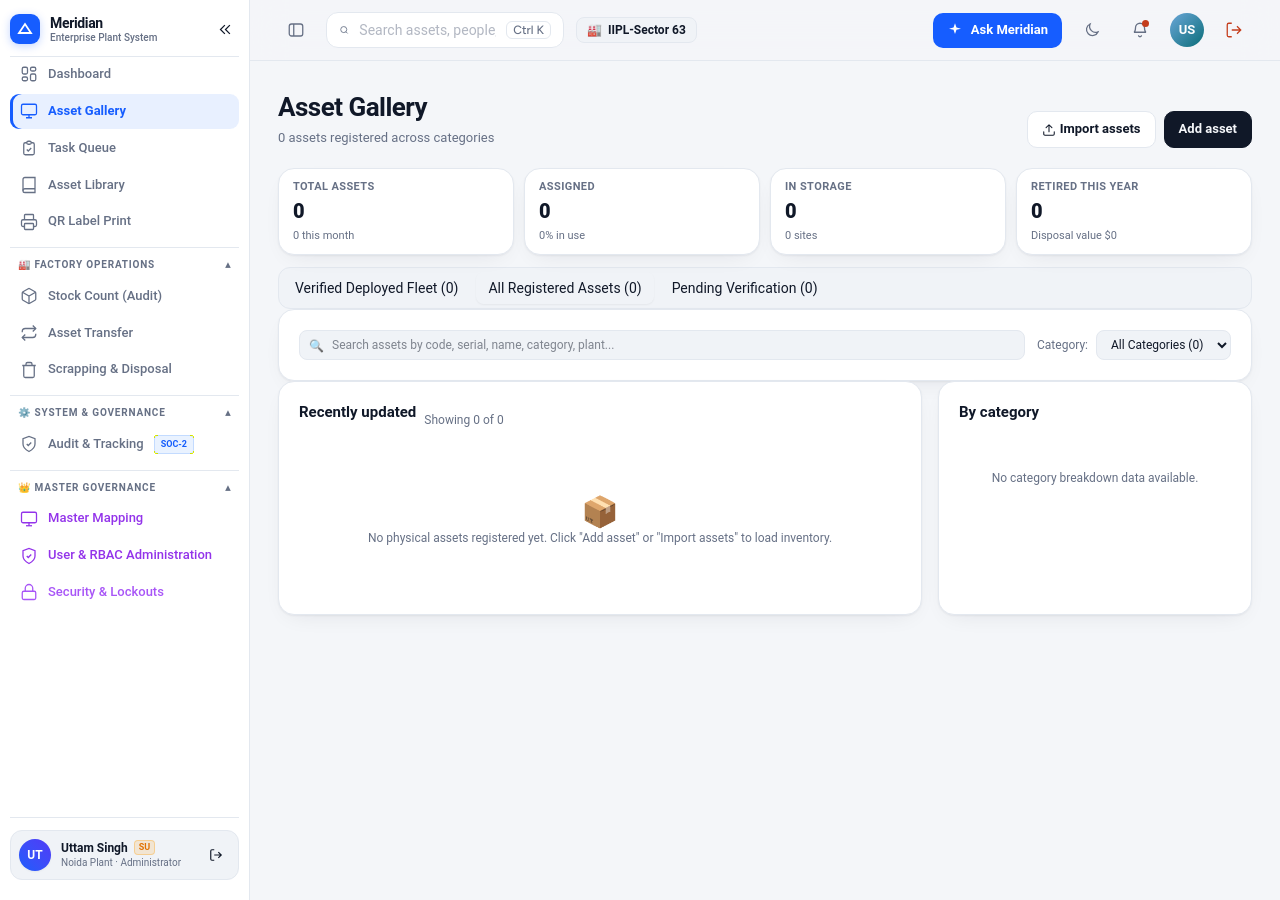
Scenario: Meridian Add Asset Drawer & Asset Library Specification › Media inputs: Clicking Asset photo and ID card reveals Camera and File options; Asset code is camera-only
Click the button "Add asset" at (1208, 129), box [1164,111,1252,148]
(page scrolled)
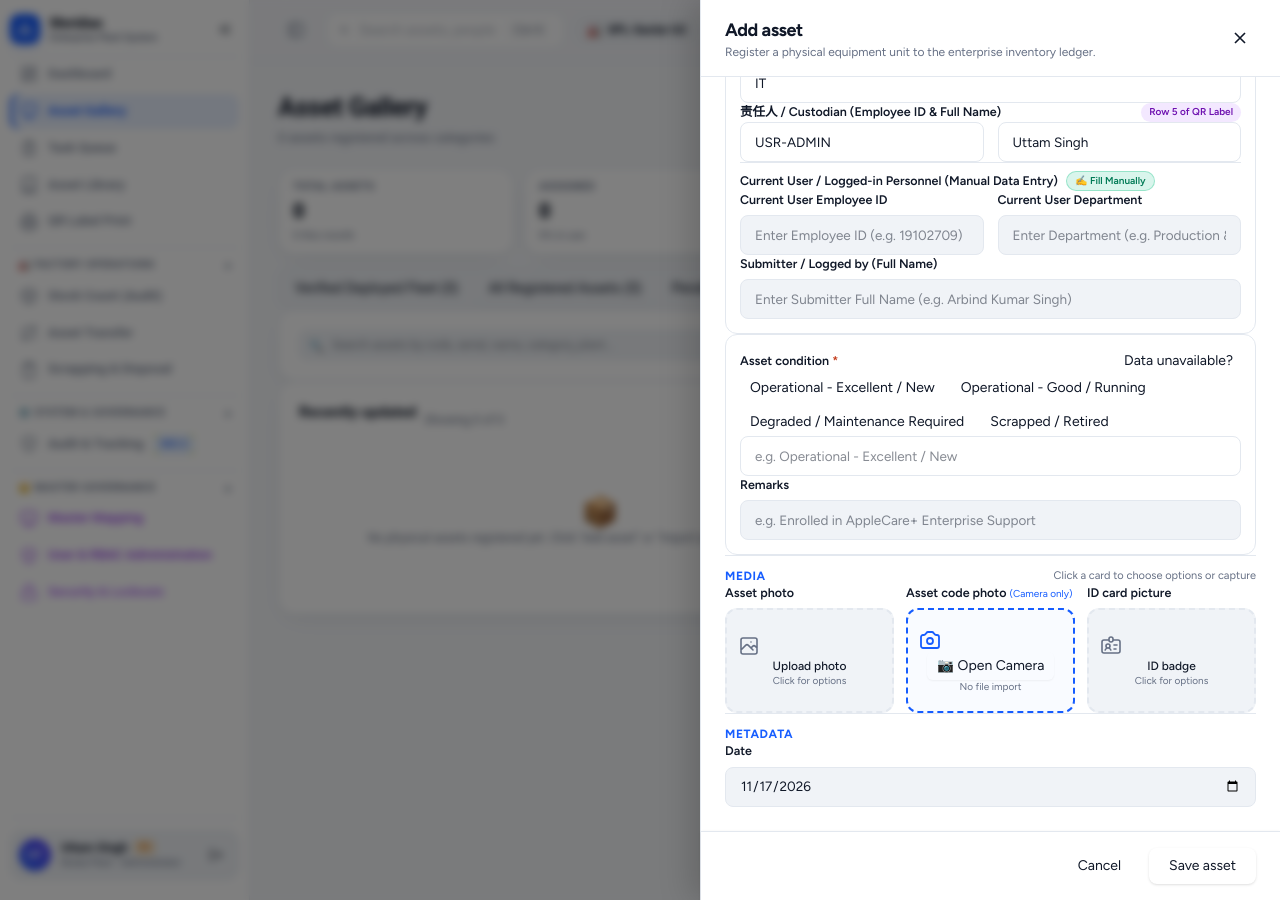
Expected: the text "Upload photo" is shown
Expected: the text "ID badge" is shown, [1147,659,1196,673]
Expected: the button "📷 Open Camera" is shown, [927,652,1054,680]
// Clicking Asset photo card reveals options
Click the text "Upload photo" at (810, 666), box [773,659,846,673]
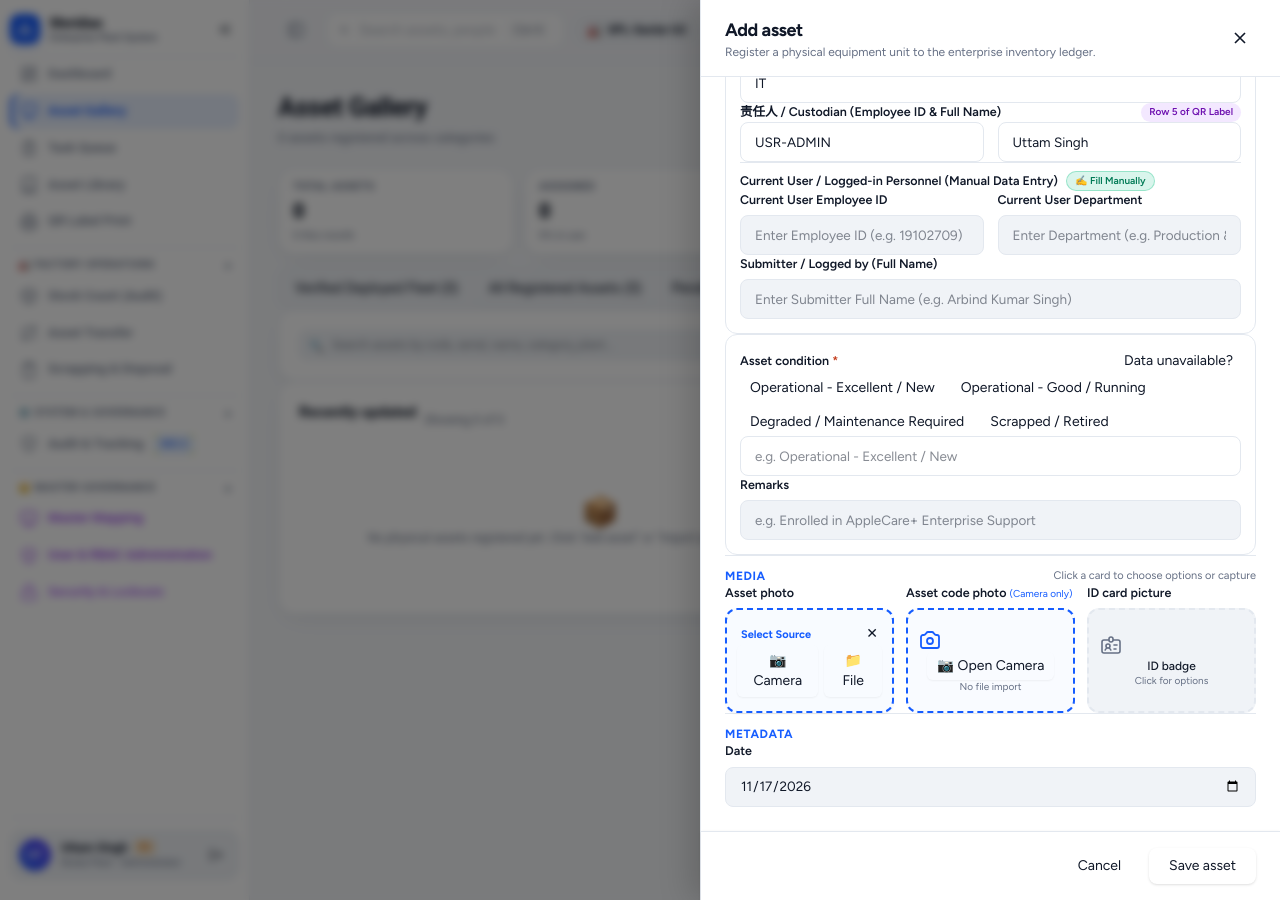
Expected: the button "📷 Camera" is shown, [737,645,818,697]
Expected: the button "📁 File" is shown, [824,645,882,697]
// Clicking ID card picture card reveals options
Click the text "ID badge" at (1171, 666), box [1147,659,1196,673]
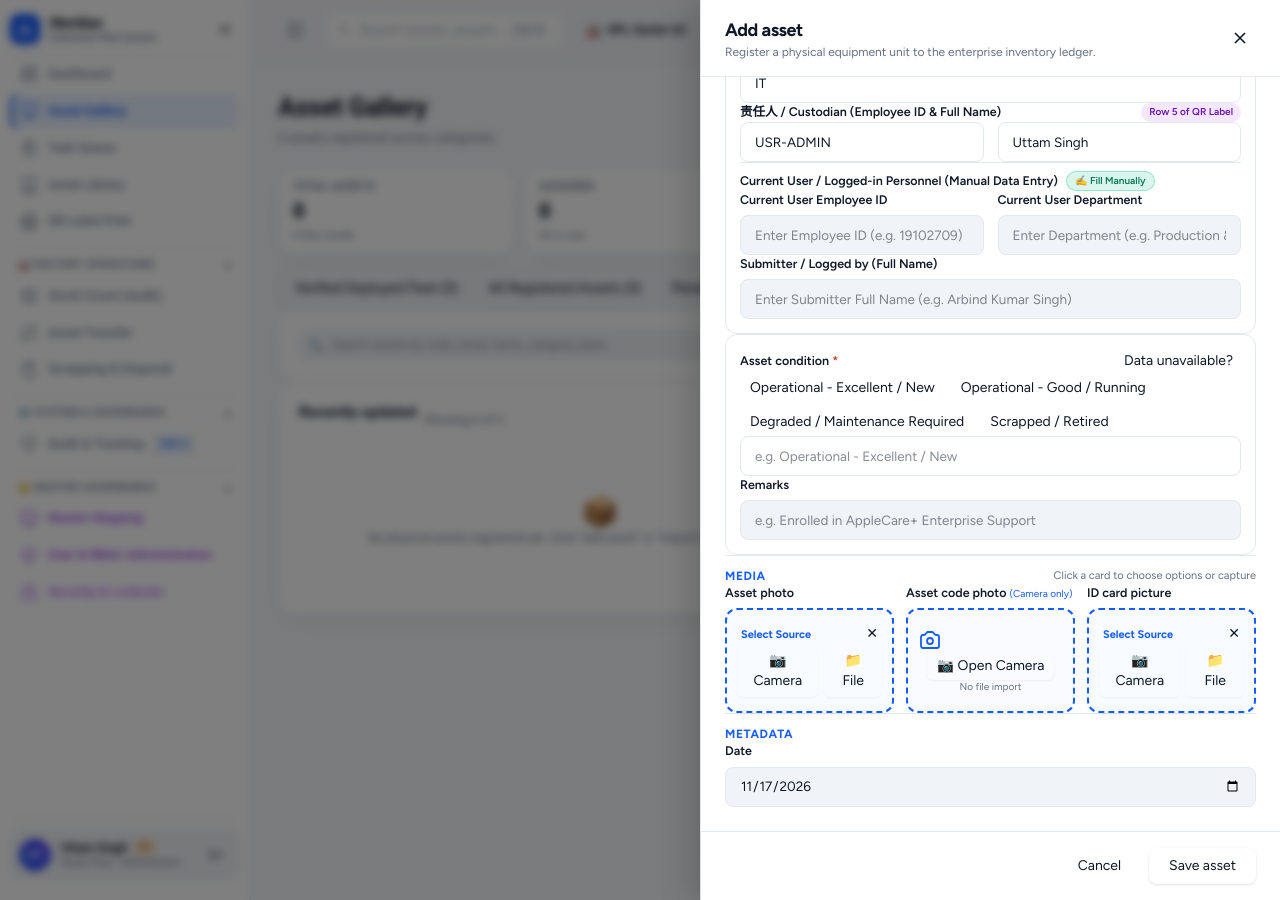
Expected: the number of buttons "📷 Camera" is 2, [737,645,818,697]; [1099,645,1180,697]
Expected: the number of buttons "📁 File" is 2, [824,645,882,697]; [1186,645,1244,697]
// Clicking Asset code camera button directly triggers camera viewfinder
Click the button "📷 Open Camera" at (991, 666), box [927,652,1054,680]
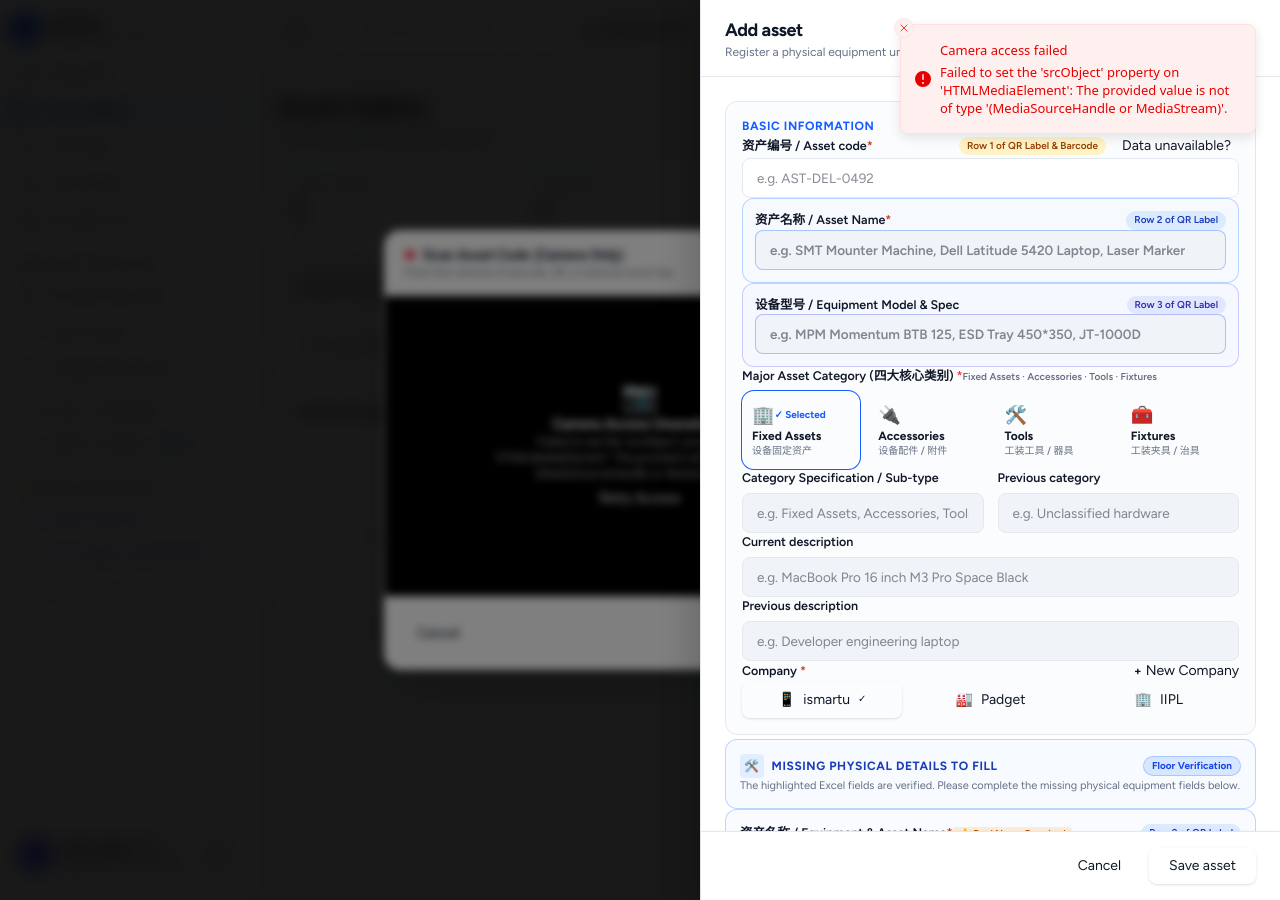
Expected: the dialog named "Live Camera Scanner" is shown
Expected: the heading "Scan Asset Code (Camera Only)" is shown, [405,247,624,263]
